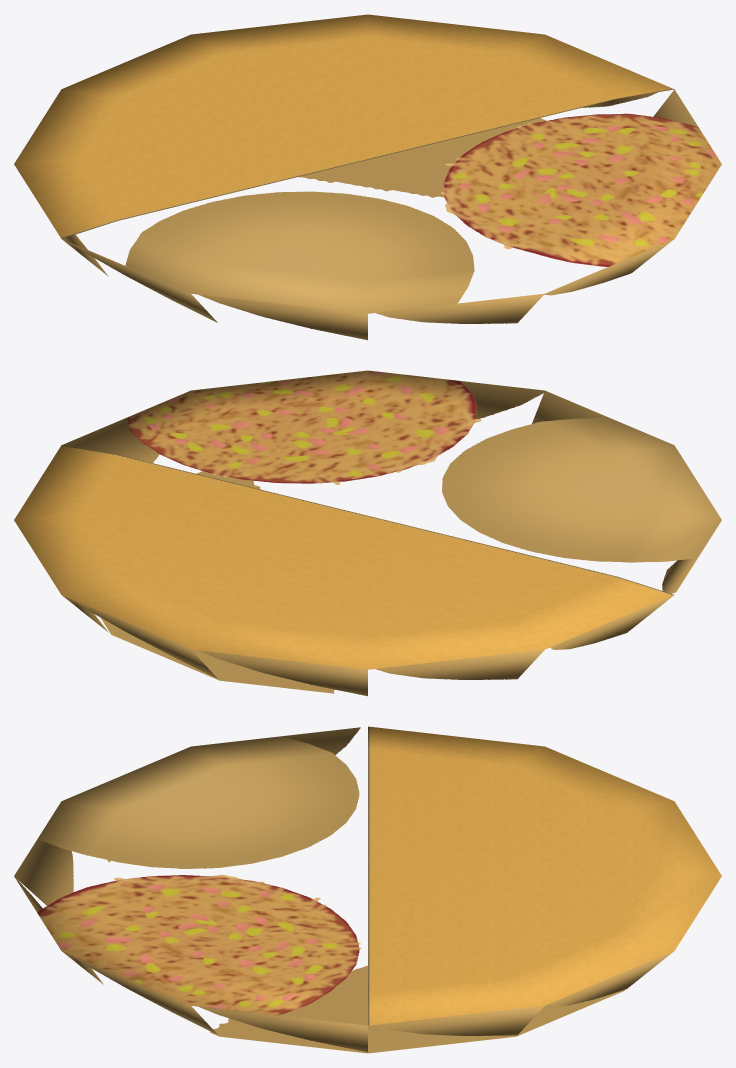
The model's file is WorldItem_PizzaSauced2.fbx.
3 views of the same model, one above another, from view 1: azimuth 30°, elevation 25°; view 2: azimuth 150°, elevation 25°; view 3: azimuth 270°, elevation 25° (orthographic).
Visible parts, largest first — view 1: Hawaii, Sauced; view 2: Hawaii, Sauced; view 3: Hawaii, Sauced.
Part boxes in pixels (x1,y1,x2,y2): Hawaii: (14, 14, 721, 313); Sauced: (61, 92, 673, 340); Hawaii: (14, 370, 721, 693); Sauced: (62, 393, 694, 696); Hawaii: (14, 726, 721, 1053); Sauced: (18, 742, 673, 1052).
Size of the model in its own units: 43.58 by 3.84 by 43.58.
